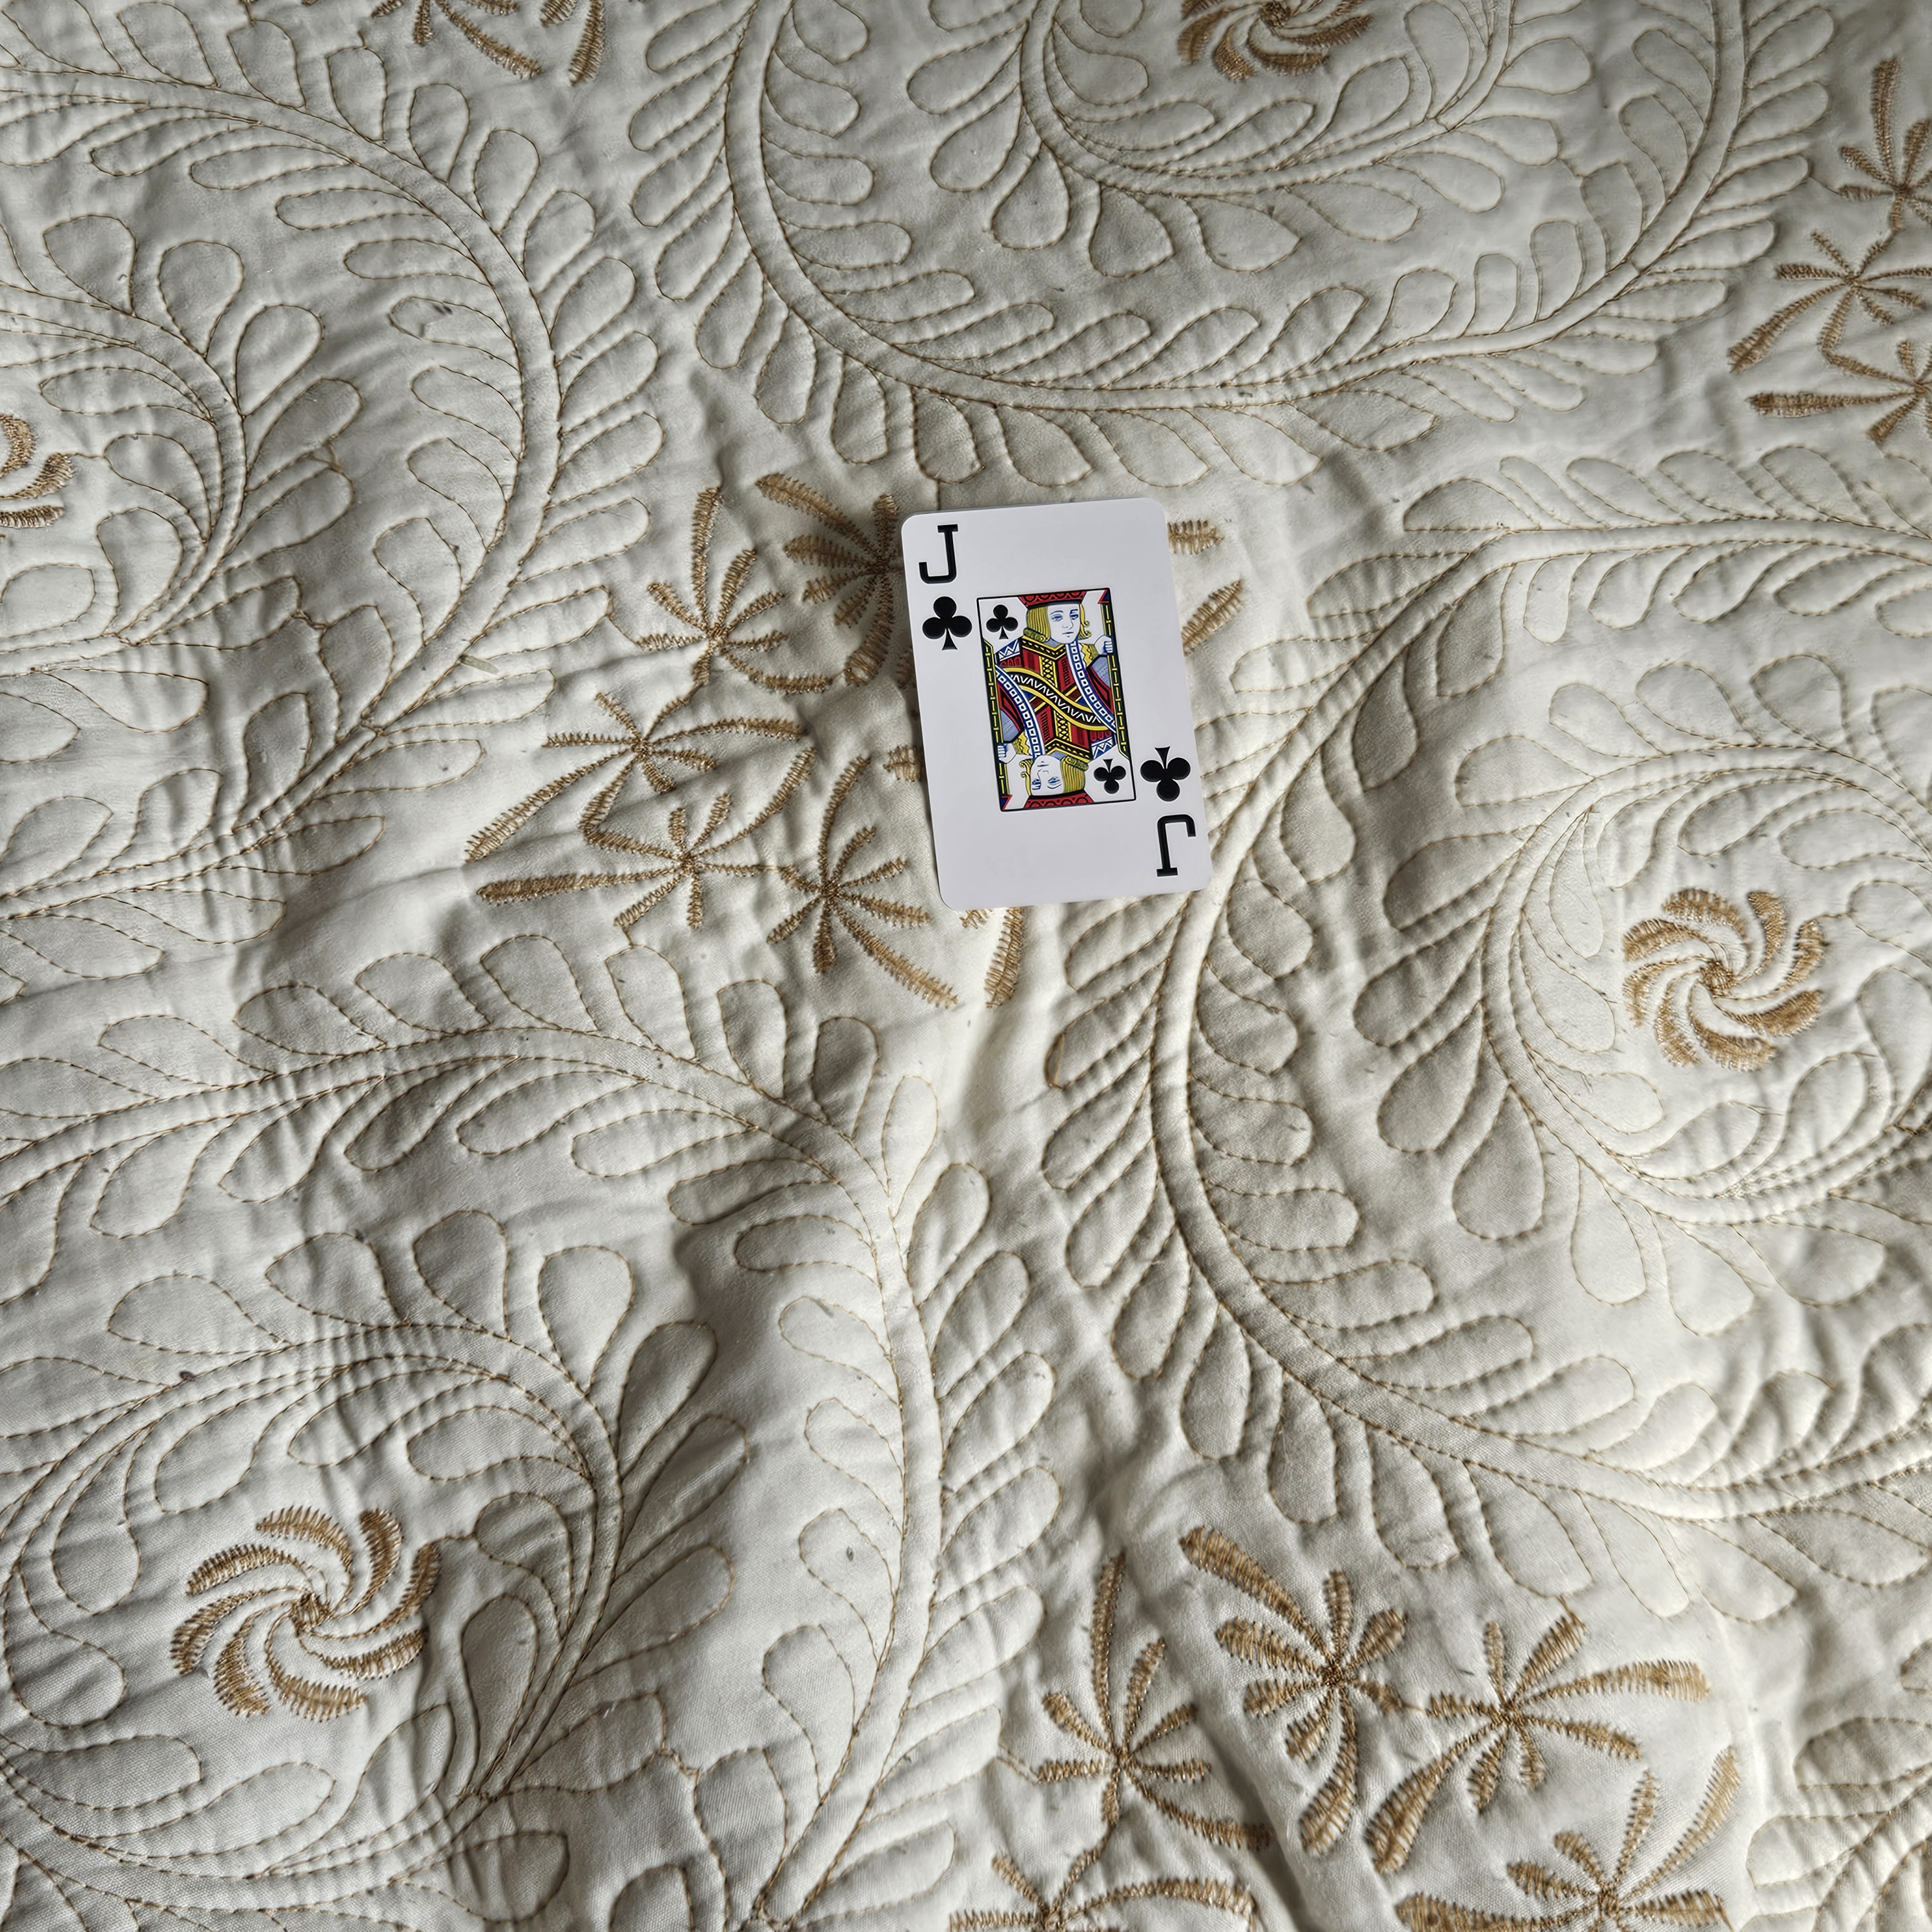JP: (906, 511, 985, 656)
